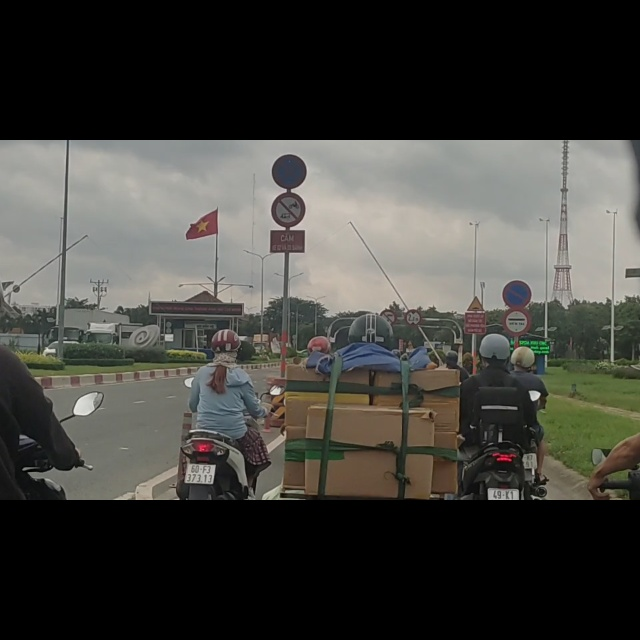bien_nguy_hiem: (271, 25, 307, 85), (271, 94, 307, 154), (502, 250, 532, 299), (502, 300, 531, 348), (466, 277, 486, 306), (405, 302, 423, 331)
